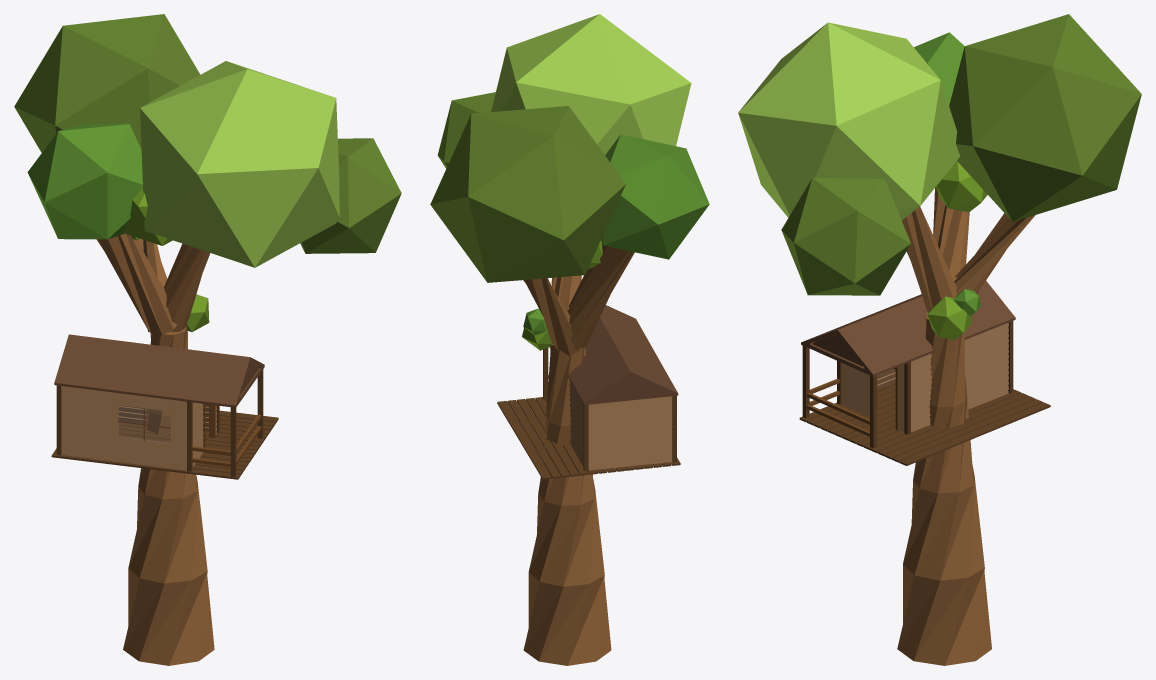
The model's file is Baumhaus Neu Teil 1.fbx.
3 renders of one model, left to right at view 1: azimuth 30°, elevation 25°; view 2: azimuth 150°, elevation 25°; view 3: azimuth 270°, elevation 25°, orthographic. The views are drawn at different scales.
Visible parts, largest first — view 1: Blätter_1, Haus_1, Baumkrone_1; view 2: Blätter_1, Baumkrone_1, Haus_1; view 3: Blätter_1, Baumkrone_1, Haus_1.
Part boxes in pixels (x1,y1,x2,y2): Blätter_1: (14, 14, 401, 331); Haus_1: (51, 334, 278, 479); Baumkrone_1: (96, 233, 214, 665); Blätter_1: (430, 14, 709, 350); Baumkrone_1: (523, 243, 634, 665); Haus_1: (497, 305, 680, 479); Blätter_1: (738, 14, 1141, 340); Baumkrone_1: (897, 187, 1035, 665); Haus_1: (799, 281, 1050, 465).
Size of the model in its own units: 1031 by 1917 by 1106.
